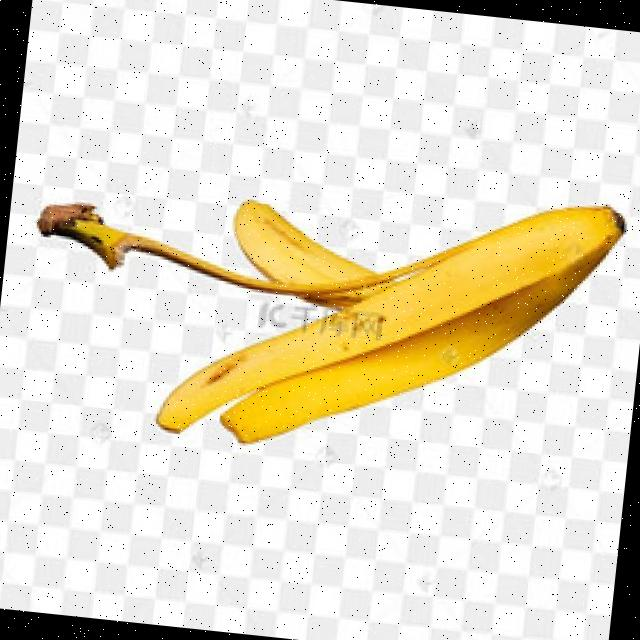banana-peel: (154, 158, 628, 482)
